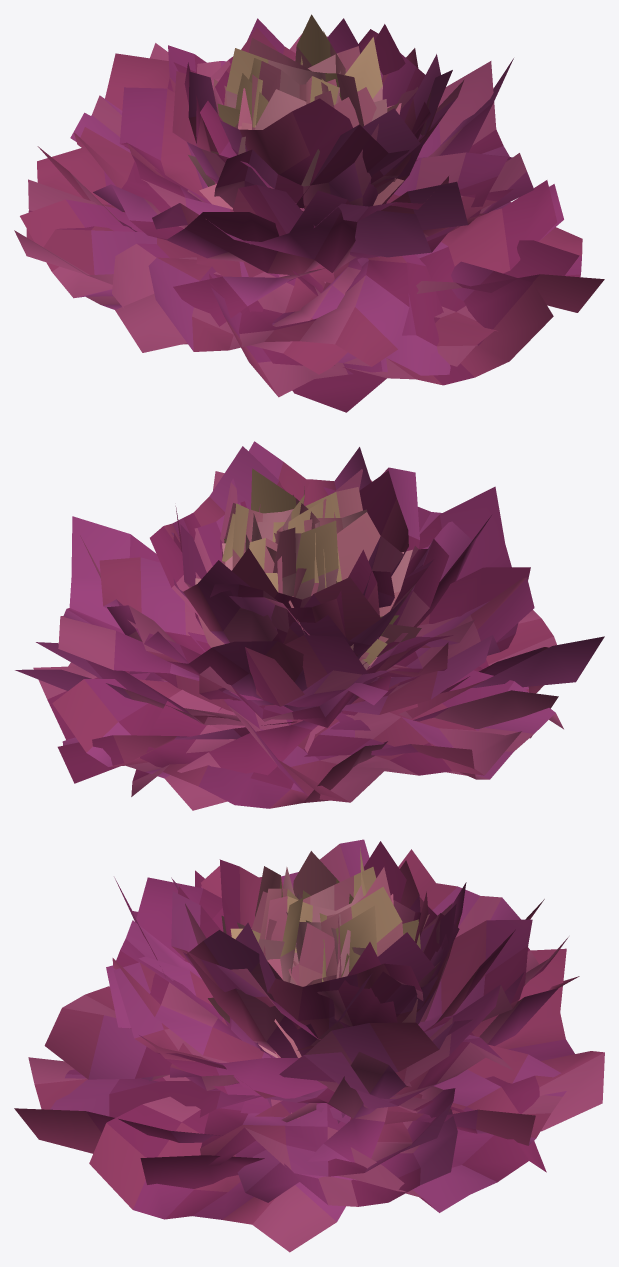
File: salade_rouge_mur.glb
3 renders of one model, top to bottom at view 1: azimuth 30°, elevation 25°; view 2: azimuth 150°, elevation 25°; view 3: azimuth 270°, elevation 25°, orthographic. The views are drawn at different scales.
Parts seen in each view (by area): view 1: Salade_Feuilles_ext, Salade_Feuilles_int; view 2: Salade_Feuilles_ext, Salade_Feuilles_int; view 3: Salade_Feuilles_ext, Salade_Feuilles_int.
Boxes of the visible parts, x1,y1,x2,y2 form: Salade_Feuilles_ext: (14,18,604,412); Salade_Feuilles_int: (188,14,403,209); Salade_Feuilles_ext: (15,441,604,810); Salade_Feuilles_int: (195,468,421,669); Salade_Feuilles_ext: (14,839,604,1252); Salade_Feuilles_int: (208,847,429,1057).
Size of the model in its own units: 0.5467 by 0.265 by 0.5437.
